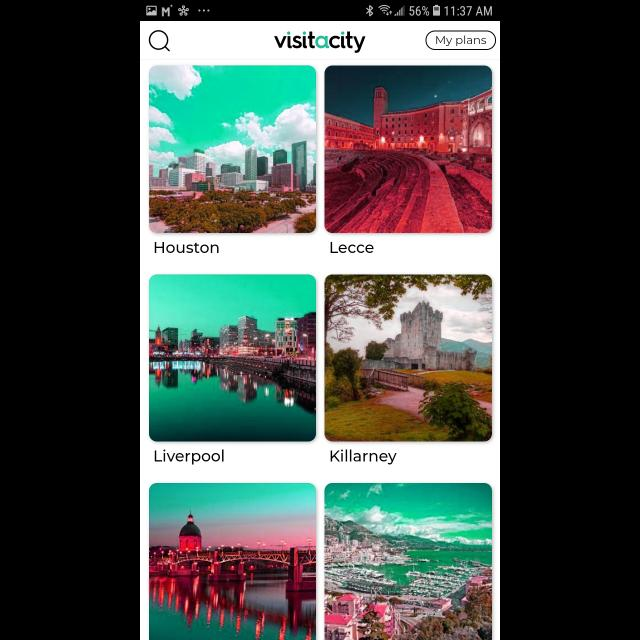icon: (149, 30, 171, 52)
image: (324, 274, 492, 442), (324, 66, 492, 234), (150, 274, 316, 442), (150, 66, 316, 234), (324, 482, 492, 640), (149, 483, 316, 640), (274, 32, 366, 54)
text: (155, 449, 225, 465), (330, 449, 398, 465), (155, 242, 219, 254), (331, 242, 374, 254)
textbutton: (426, 31, 496, 51)
uppertaskbar: (140, 1, 500, 22)
